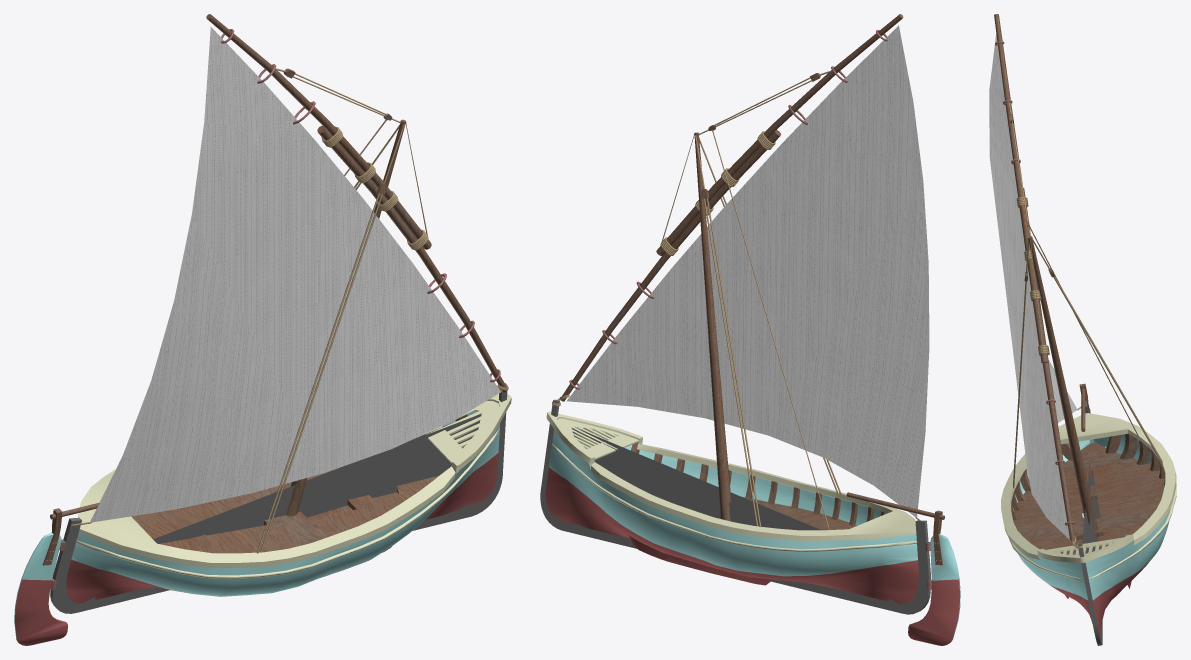
The model's file is Almejera.obj.
The picture shows the model from 3 angles, left to right: view 1: azimuth 30°, elevation 25°; view 2: azimuth 150°, elevation 25°; view 3: azimuth 270°, elevation 25°; orthographic projection. The views are drawn at different scales.
Parts seen in each view (by area): view 1: Mesh15 Group12 Group10 Group1 Model, Mesh6 Componente_1_1 Group2 Group1 Model, Mesh4 Group4 Componente_1_1 Group2 Group1 Model, Mesh11 Group8 Group1 Model, Mesh12 Group9 Group1 Model, Mesh9 Componente_1_2 Group2 Group1 Model, Mesh14 Group11 Group10 Group1 Model, Mesh13 Group11 Group10 Group1 Model, Mesh5 Group5 Componente_1_1 Group2 Group1 Model, Mesh47 Group18 Group1 Model; view 2: Mesh15 Group12 Group10 Group1 Model, Mesh7 Group6 Componente_1_2 Group2 Group1 Model, Mesh11 Group8 Group1 Model, Mesh6 Componente_1_1 Group2 Group1 Model, Mesh9 Componente_1_2 Group2 Group1 Model, Mesh12 Group9 Group1 Model, Mesh47 Group18 Group1 Model, Mesh14 Group11 Group10 Group1 Model, Mesh13 Group11 Group10 Group1 Model, Mesh8 Group7 Componente_1_2 Group2 Group1 Model, Mesh43 Group17 Group1 Model; view 3: Mesh15 Group12 Group10 Group1 Model, Mesh9 Componente_1_2 Group2 Group1 Model, Mesh6 Componente_1_1 Group2 Group1 Model, Mesh7 Group6 Componente_1_2 Group2 Group1 Model, Mesh47 Group18 Group1 Model, Mesh13 Group11 Group10 Group1 Model, Mesh4 Group4 Componente_1_1 Group2 Group1 Model, Mesh14 Group11 Group10 Group1 Model, Mesh11 Group8 Group1 Model, Mesh8 Group7 Componente_1_2 Group2 Group1 Model, Mesh43 Group17 Group1 Model, Mesh5 Group5 Componente_1_1 Group2 Group1 Model (+1 smaller).
Boxes of the visible parts, <box> form: Mesh15 Group12 Group10 Group1 Model: <box>90,27,500,522</box>; Mesh6 Componente_1_1 Group2 Group1 Model: <box>78,396,511,567</box>; Mesh4 Group4 Componente_1_1 Group2 Group1 Model: <box>66,423,499,603</box>; Mesh11 Group8 Group1 Model: <box>50,412,506,613</box>; Mesh12 Group9 Group1 Model: <box>14,503,98,645</box>; Mesh9 Componente_1_2 Group2 Group1 Model: <box>78,394,509,539</box>; Mesh14 Group11 Group10 Group1 Model: <box>317,125,506,392</box>; Mesh13 Group11 Group10 Group1 Model: <box>206,14,431,249</box>; Mesh5 Group5 Componente_1_1 Group2 Group1 Model: <box>256,124,405,553</box>; Mesh47 Group18 Group1 Model: <box>286,119,406,516</box>; Mesh15 Group12 Group10 Group1 Model: <box>566,25,929,517</box>; Mesh7 Group6 Componente_1_2 Group2 Group1 Model: <box>545,429,918,604</box>; Mesh11 Group8 Group1 Model: <box>540,424,931,614</box>; Mesh6 Componente_1_1 Group2 Group1 Model: <box>548,411,915,530</box>; Mesh9 Componente_1_2 Group2 Group1 Model: <box>546,412,916,540</box>; Mesh12 Group9 Group1 Model: <box>846,492,960,645</box>; Mesh47 Group18 Group1 Model: <box>694,132,730,521</box>; Mesh14 Group11 Group10 Group1 Model: <box>561,130,780,401</box>; Mesh13 Group11 Group10 Group1 Model: <box>656,14,903,255</box>; Mesh8 Group7 Componente_1_2 Group2 Group1 Model: <box>695,135,761,527</box>; Mesh43 Group17 Group1 Model: <box>698,73,829,530</box>; Mesh15 Group12 Group10 Group1 Model: <box>989,34,1076,538</box>; Mesh9 Componente_1_2 Group2 Group1 Model: <box>1082,413,1176,562</box>; Mesh6 Componente_1_1 Group2 Group1 Model: <box>1001,413,1092,563</box>; Mesh7 Group6 Componente_1_2 Group2 Group1 Model: <box>1085,483,1176,635</box>; Mesh47 Group18 Group1 Model: <box>1027,236,1099,541</box>; Mesh13 Group11 Group10 Group1 Model: <box>994,14,1048,363</box>; Mesh4 Group4 Componente_1_1 Group2 Group1 Model: <box>1009,539,1092,623</box>; Mesh14 Group11 Group10 Group1 Model: <box>1023,188,1074,541</box>; Mesh11 Group8 Group1 Model: <box>1081,401,1102,645</box>; Mesh8 Group7 Componente_1_2 Group2 Group1 Model: <box>1032,238,1162,464</box>; Mesh43 Group17 Group1 Model: <box>1009,113,1138,436</box>; Mesh5 Group5 Componente_1_1 Group2 Group1 Model: <box>1013,239,1029,488</box>.
Size of what is drawn, in the model's own units: 5454 by 7009 by 2279.
